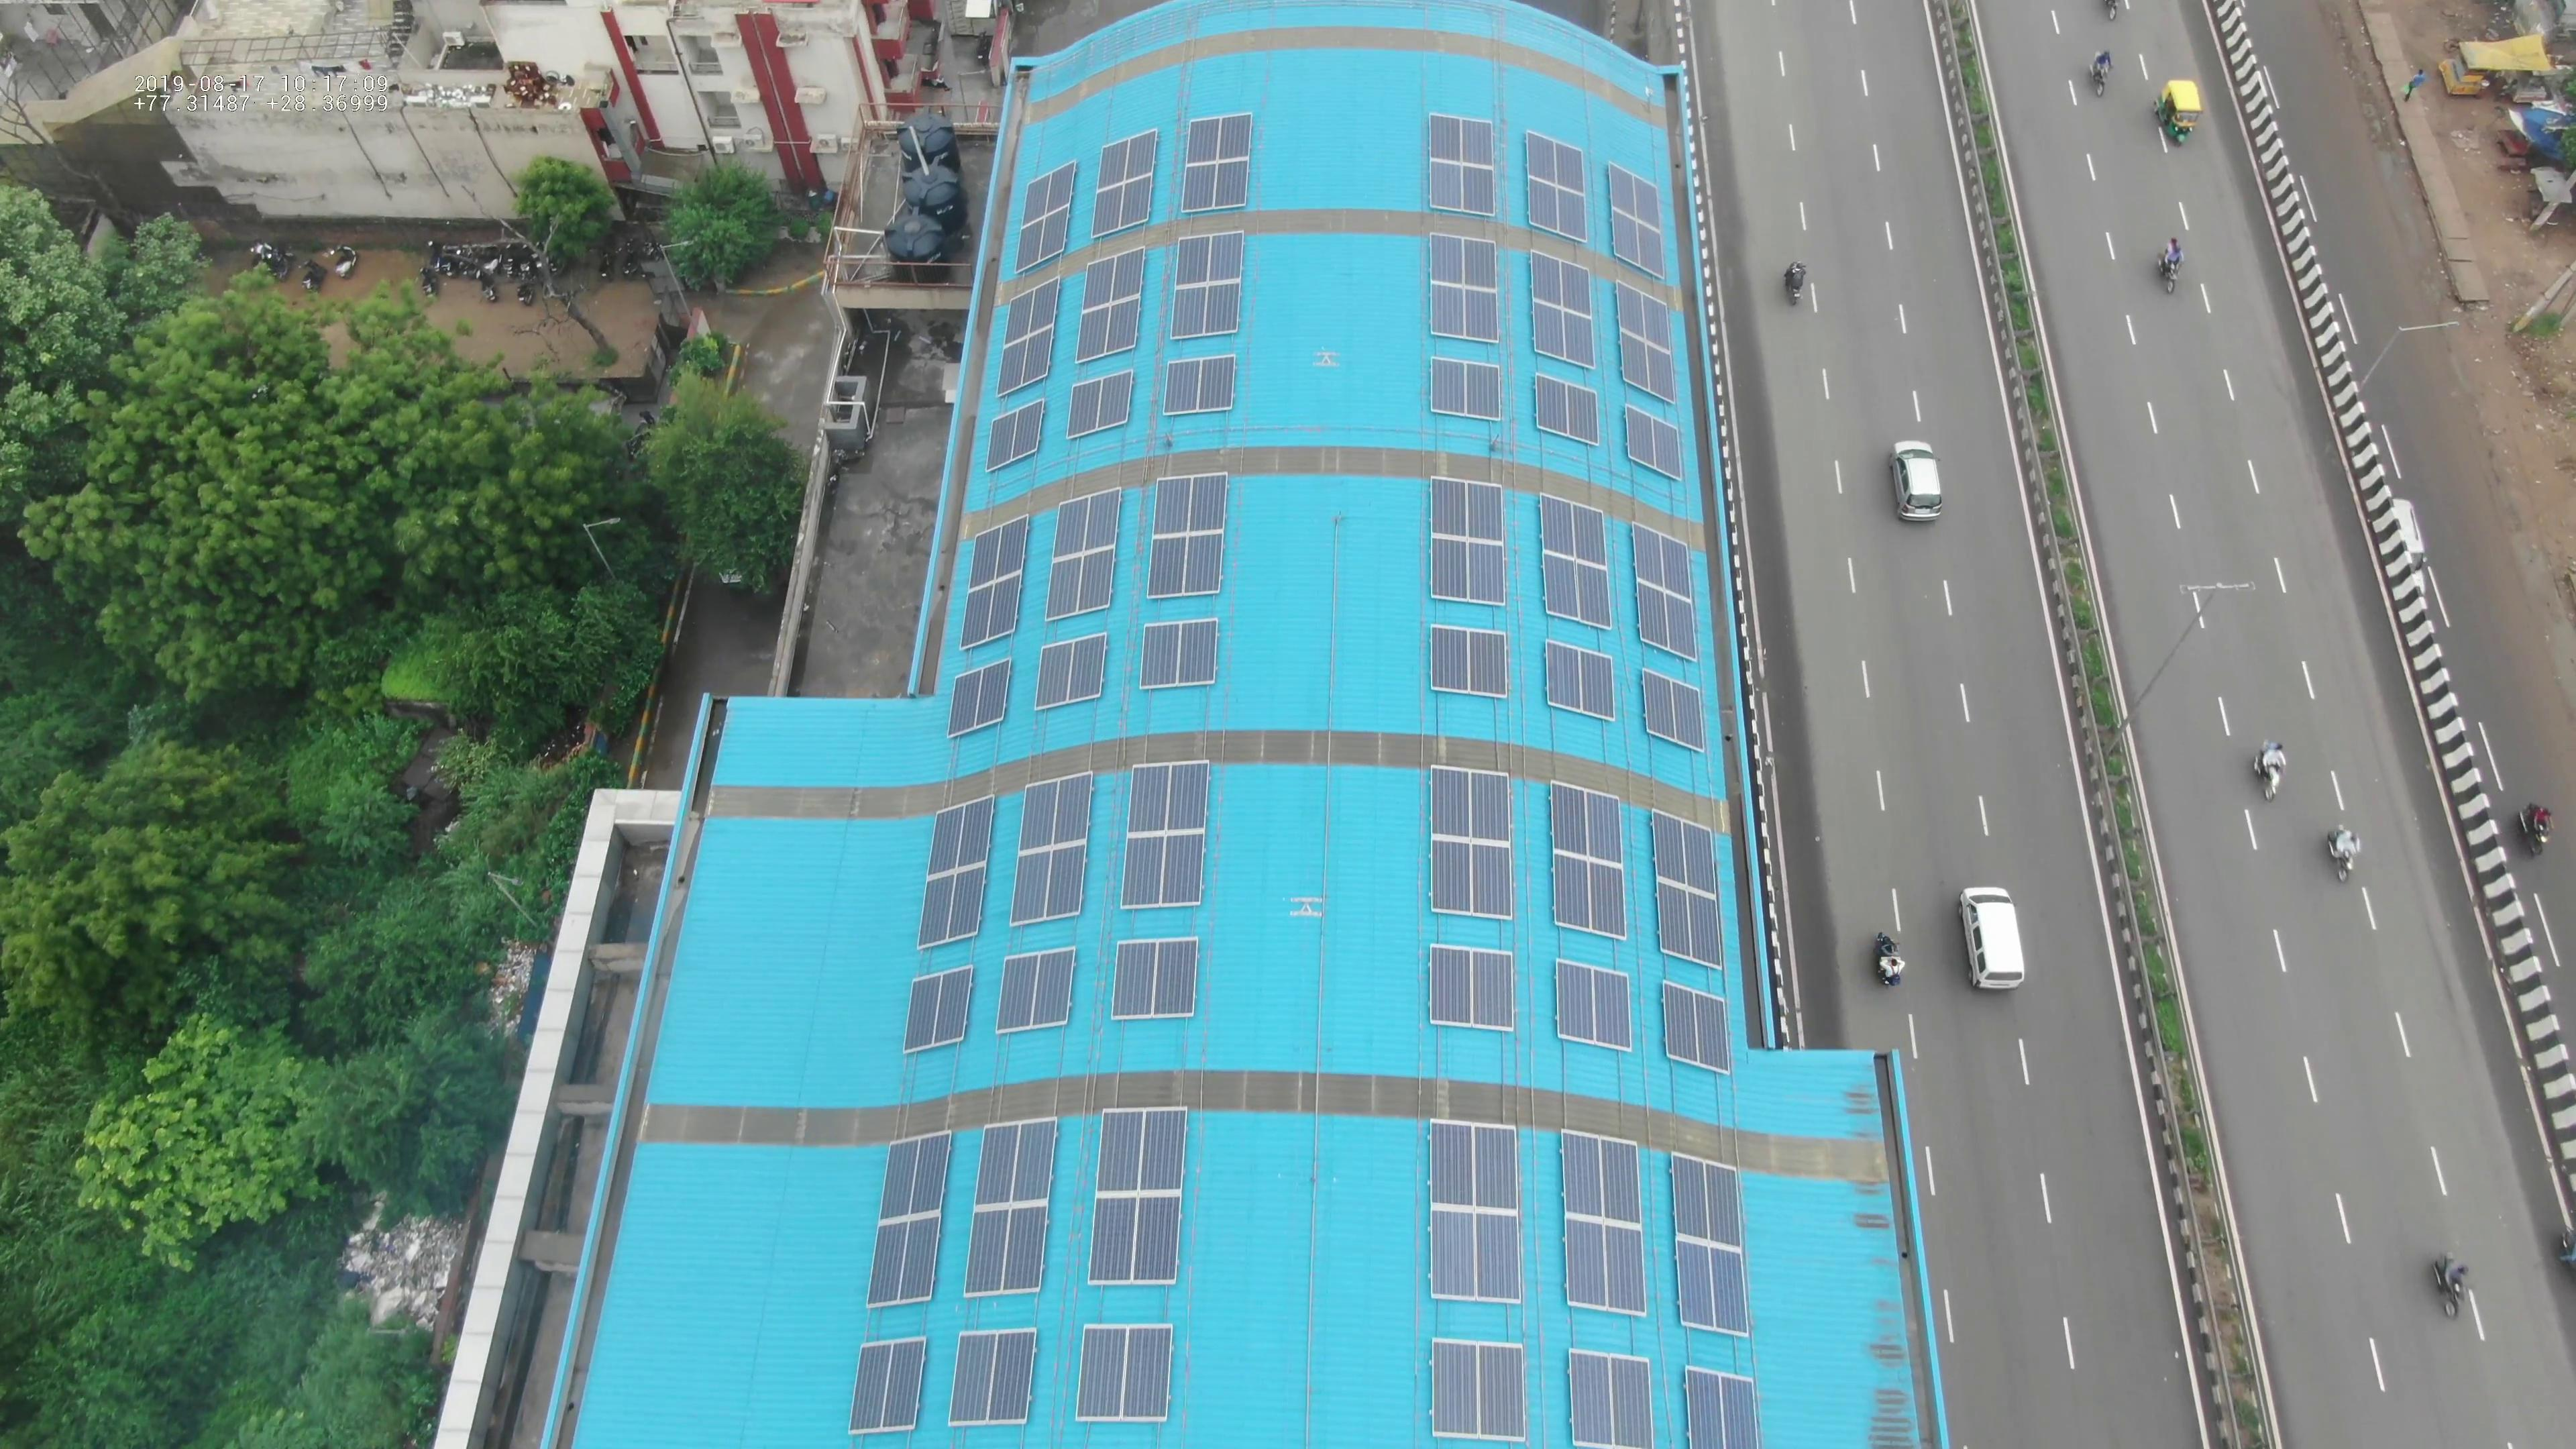Muddy_road: (2442, 315, 2558, 488)
